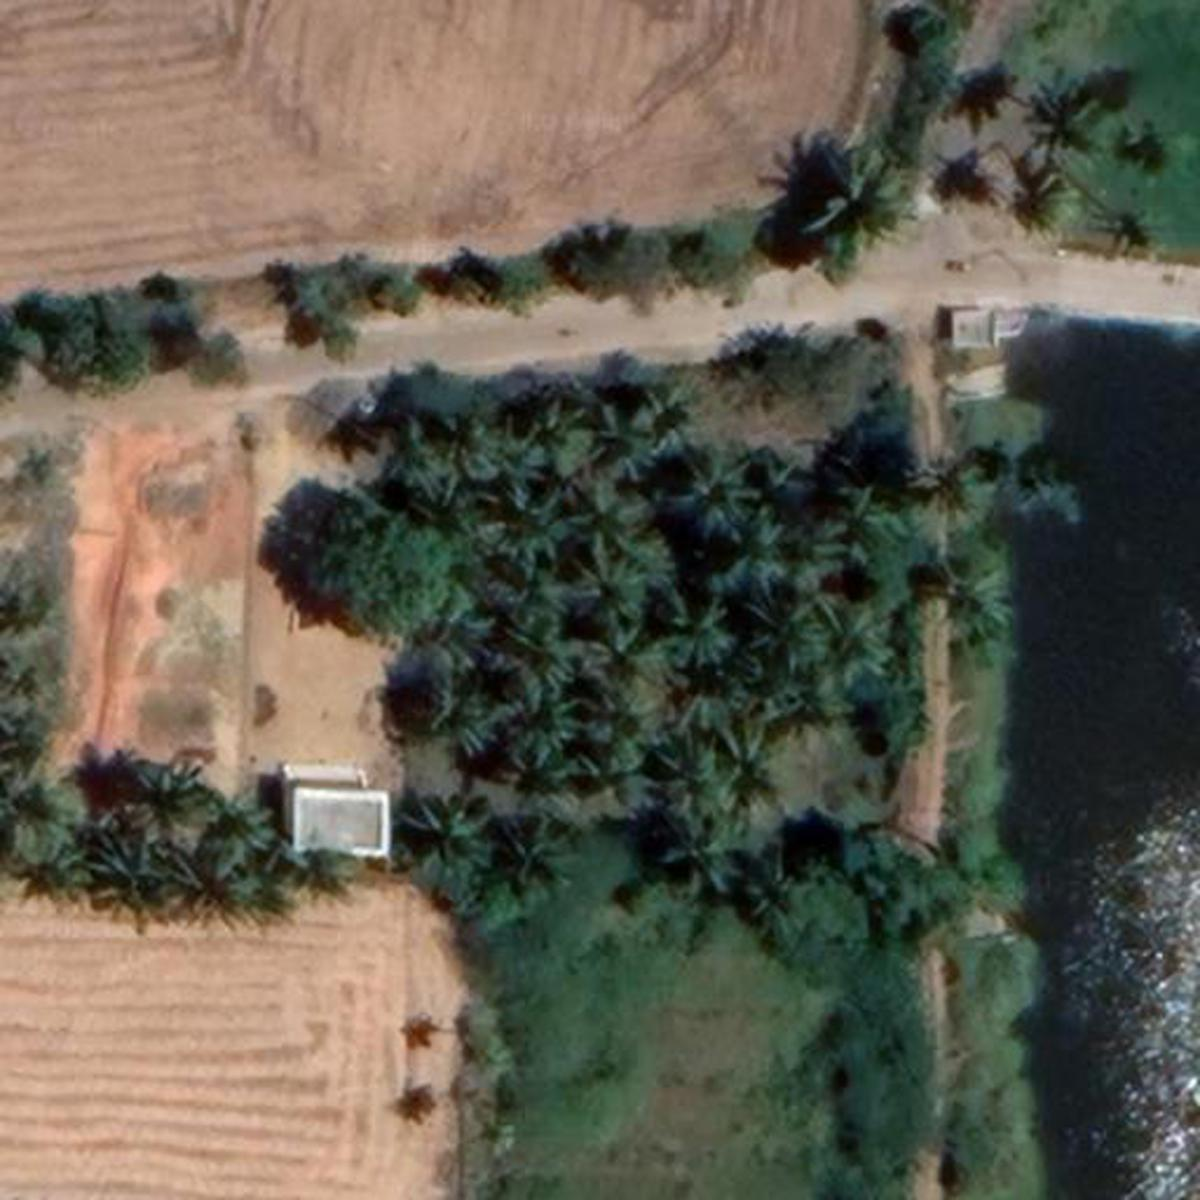coconut: (787, 147, 914, 264), (391, 414, 522, 505), (473, 473, 595, 567), (803, 475, 914, 578), (1016, 56, 1122, 164), (391, 785, 503, 884), (82, 838, 192, 930), (567, 670, 677, 759), (426, 663, 522, 762), (700, 513, 803, 604), (121, 759, 232, 843), (665, 440, 762, 529), (499, 609, 592, 700), (495, 810, 595, 895), (567, 548, 660, 638), (201, 789, 295, 878), (7, 766, 100, 855), (649, 588, 745, 675), (653, 816, 752, 900), (921, 549, 1010, 638), (182, 855, 276, 935), (7, 827, 100, 904), (914, 459, 1005, 534), (276, 843, 377, 909), (627, 382, 710, 462), (508, 686, 592, 762), (820, 614, 907, 684), (712, 726, 795, 796), (574, 398, 649, 473), (1016, 162, 1087, 238), (7, 667, 86, 735), (515, 398, 590, 468), (738, 604, 825, 665), (651, 742, 727, 810), (7, 581, 75, 649)
